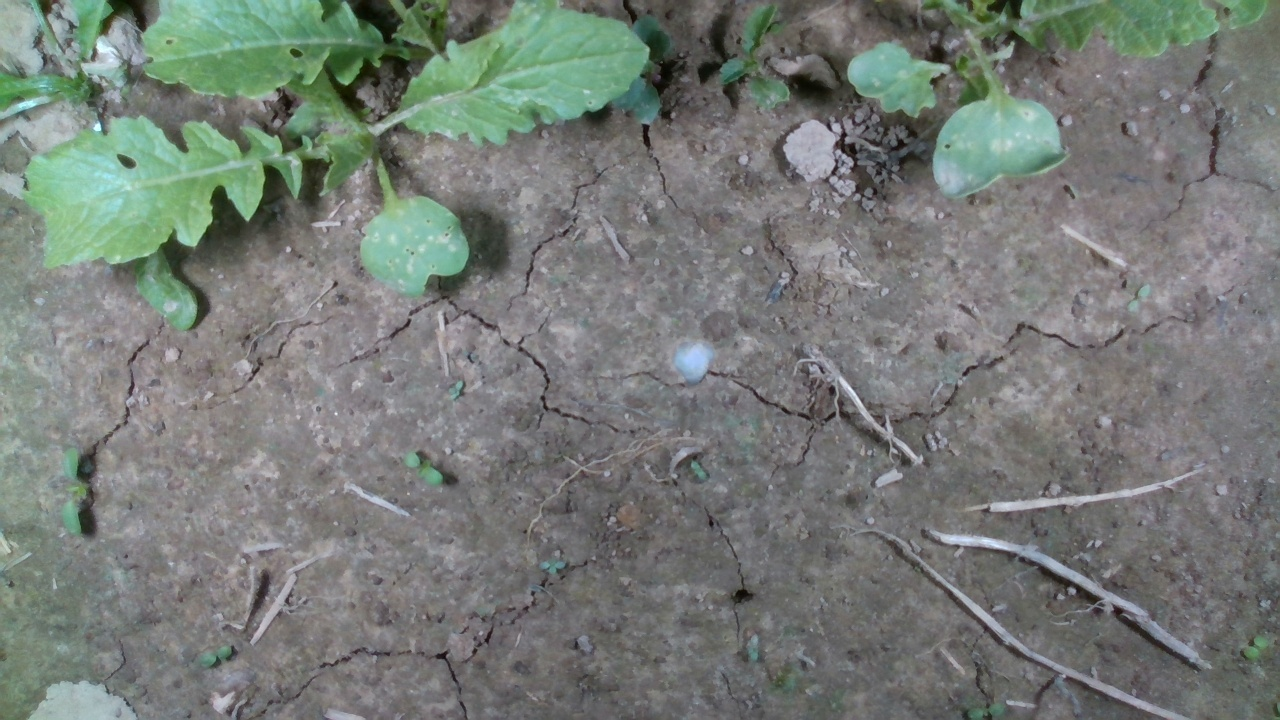weed: (403, 451, 446, 488)
